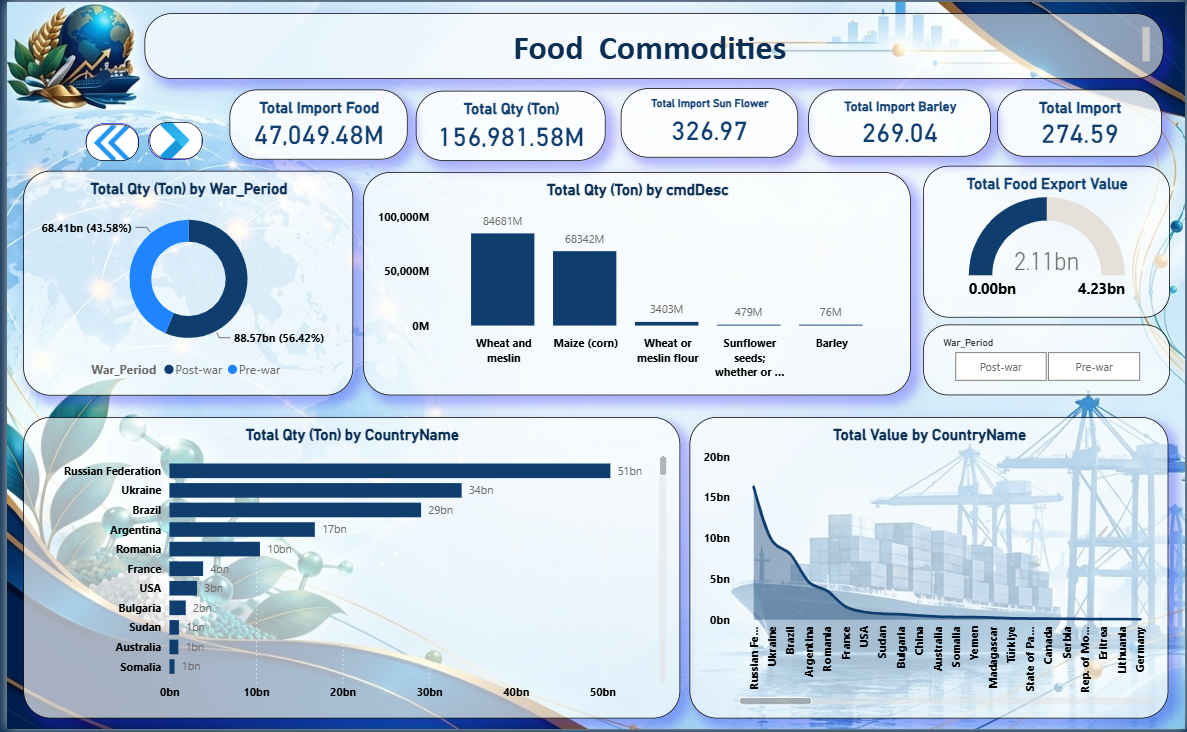

This screenshot's page, from the dashboard's own definition file:
{"tool":"powerbi","page":{"name":"Food","canvas":[1291,797],"ordinal":2},"visuals":[{"type":"clusteredBarChart","fields":{"Category":["Countries.CountryName"],"Y":["Countries.Total Qty (Ton)"]},"box":[18.3,455,720,330],"z":0},{"type":"textbox","box":[150,11.7,1116.7,71.7],"z":1000},{"type":"image","box":[155.6,133.3,58.3,39.9],"z":1000,"group":"g1"},{"type":"image","box":[86.5,133.3,58.3,39.9],"z":2000,"group":"g1"},{"type":"donutChart","fields":{"Y":["Countries.Total Qty (Ton)"],"Category":["Food Commodities.War_Period"]},"box":[18.3,185,361.7,246.7],"z":2000},{"type":"clusteredColumnChart","fields":{"Y":["Countries.Total Qty (Ton)"],"Category":["Food Commodities.cmdDesc"]},"box":[391,185.8,600.1,245.1],"z":3000},{"type":"lineChart","fields":{"Y":["Food Commodities.Total Value"],"Category":["Countries.CountryName"]},"box":[748.3,455,525,330],"z":4000},{"type":"slicer","fields":{"Values":["Food Commodities.War_Period"]},"box":[1003.8,353.1,270.4,77.8],"z":5000},{"type":"gauge","fields":{"Y":["Countries.Total Food Export Value"]},"box":[1003.8,179,270.4,166.3],"z":6000},{"type":"card","title":"Total Qty (Ton)","fields":{"Values":["Food Commodities.Total Qty (Ton)"]},"box":[448,97,208,77],"z":7000},{"type":"card","title":"Total Import ","fields":{"Values":["Food Commodities.Corn Import Price Per Ton"]},"box":[1085.1,95.3,181,73.9],"z":8000},{"type":"card","title":"Total Import Barley","fields":{"Values":["Food Commodities.Barley Import Price Per Ton"]},"box":[878.3,96.3,200.4,73.9],"z":9000},{"type":"card","title":"Total Import Sun Flower","fields":{"Values":["Food Commodities.Wheat Import Price Per Ton"]},"box":[673,95,194,76],"z":10000},{"type":"card","title":"Total Import Food","fields":{"Values":["Food Commodities.Total Food Import Value"]},"box":[243.2,95.3,195.5,76.8],"z":11000},{"type":"group","id":"g1","title":"Group 1","box":[86.5,133.3,127.3,39.9],"z":12000},{"type":"image","box":[86,134,58,40],"z":13000},{"type":"image","box":[156,132,58,41],"z":14000}]}

Visuals, with their boxes in screenshot pixels (x1, y1, x2, y2), scaled from the page's 1291x797 canvas onto the 1187x732 screenshot:
clusteredBarChart - Countries.CountryName x Countries.Total Qty (Ton): <region>17, 418, 679, 721</region>
textbox: <region>138, 11, 1165, 77</region>
image: <region>143, 122, 197, 159</region>
image: <region>80, 122, 133, 159</region>
donutChart - Countries.Total Qty (Ton) x Food Commodities.War_Period: <region>17, 170, 349, 396</region>
clusteredColumnChart - Countries.Total Qty (Ton) x Food Commodities.cmdDesc: <region>360, 171, 911, 396</region>
lineChart - Food Commodities.Total Value x Countries.CountryName: <region>688, 418, 1171, 721</region>
slicer - Food Commodities.War_Period: <region>923, 324, 1172, 396</region>
gauge - Countries.Total Food Export Value: <region>923, 164, 1172, 317</region>
"Total Qty (Ton)" card: <region>412, 89, 603, 160</region>
"Total Import " card: <region>998, 88, 1164, 155</region>
"Total Import Barley" card: <region>808, 88, 992, 156</region>
"Total Import Sun Flower" card: <region>619, 87, 797, 157</region>
"Total Import Food" card: <region>224, 88, 403, 158</region>
"Group 1" group: <region>80, 122, 197, 159</region>
image: <region>79, 123, 132, 160</region>
image: <region>143, 121, 197, 159</region>
